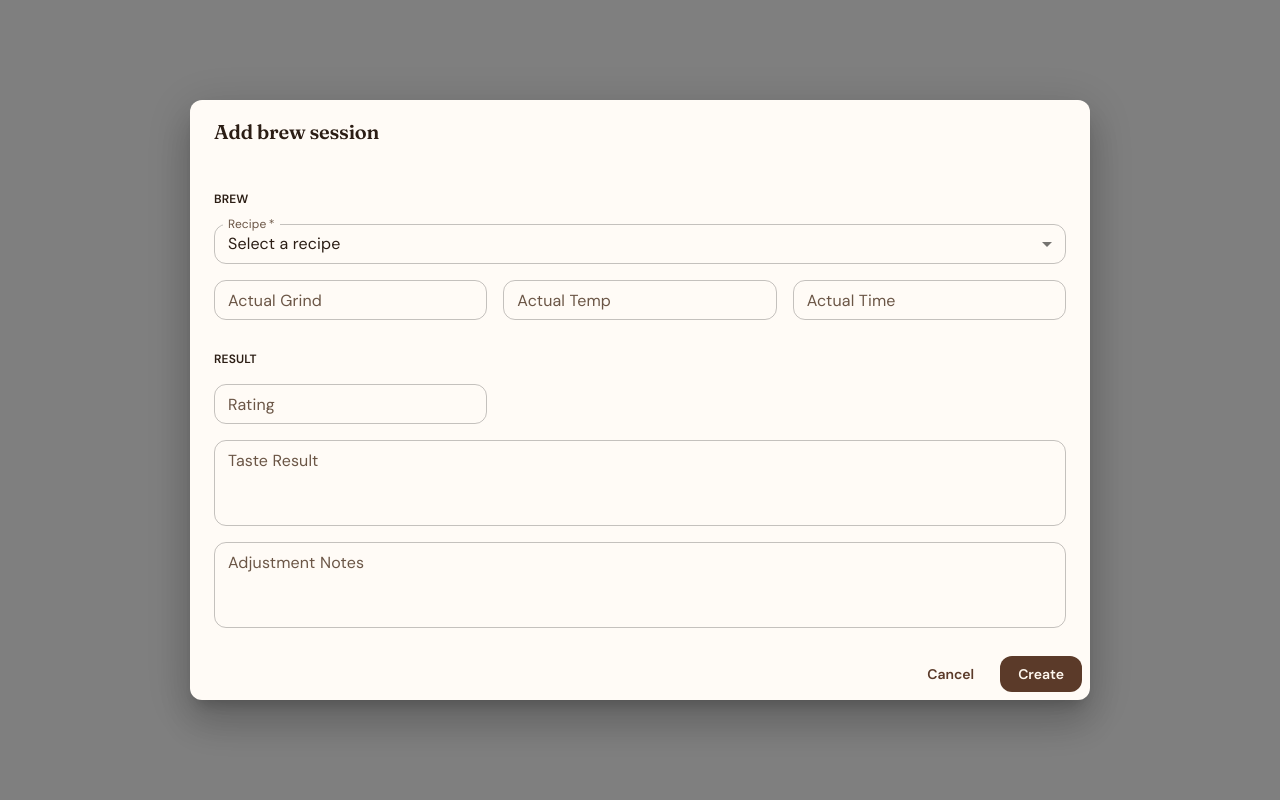
Test case: BrewSessionFormDialog › maps a server 400 validation error onto the field
Select "Mezcla AeroPress" in the dropdown labelled "Recipe *" at (640, 244), box [214,224,1066,264]
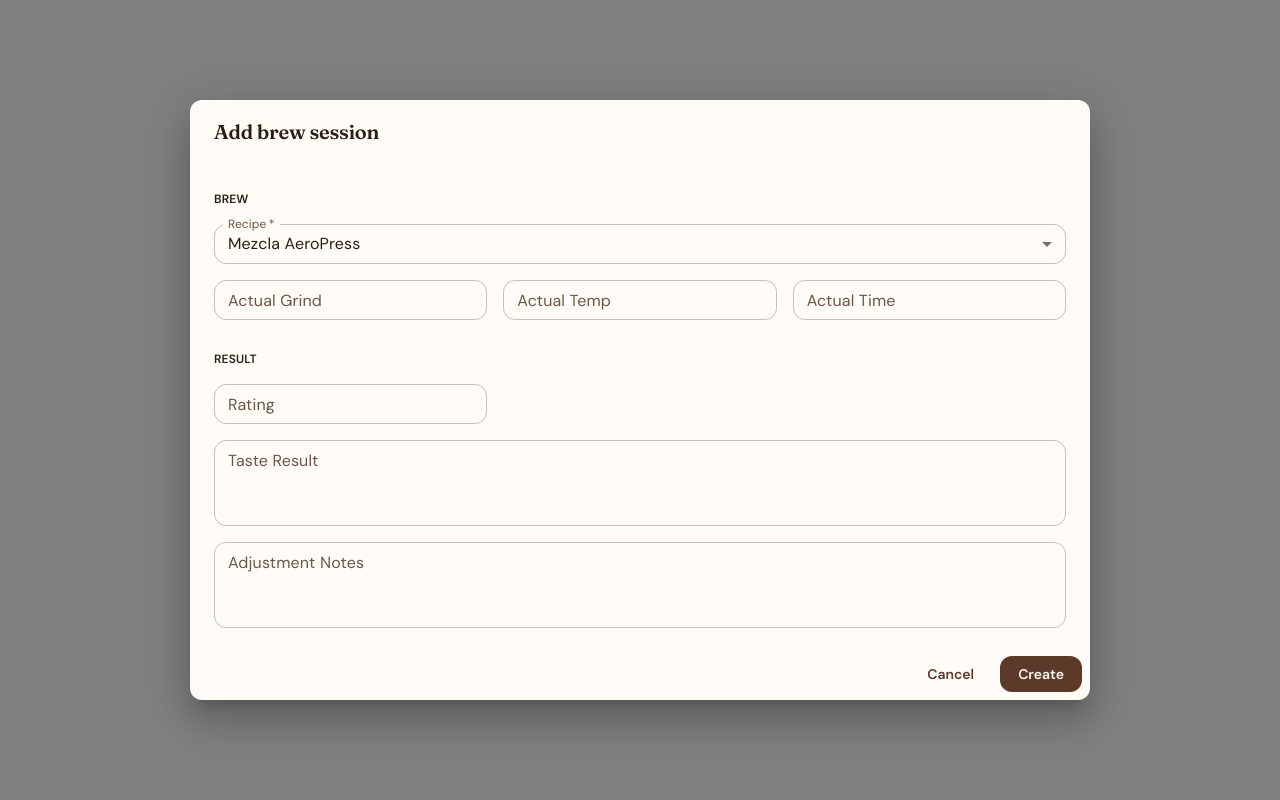
Click the button "Create" at (1041, 674), box [1000,656,1082,692]
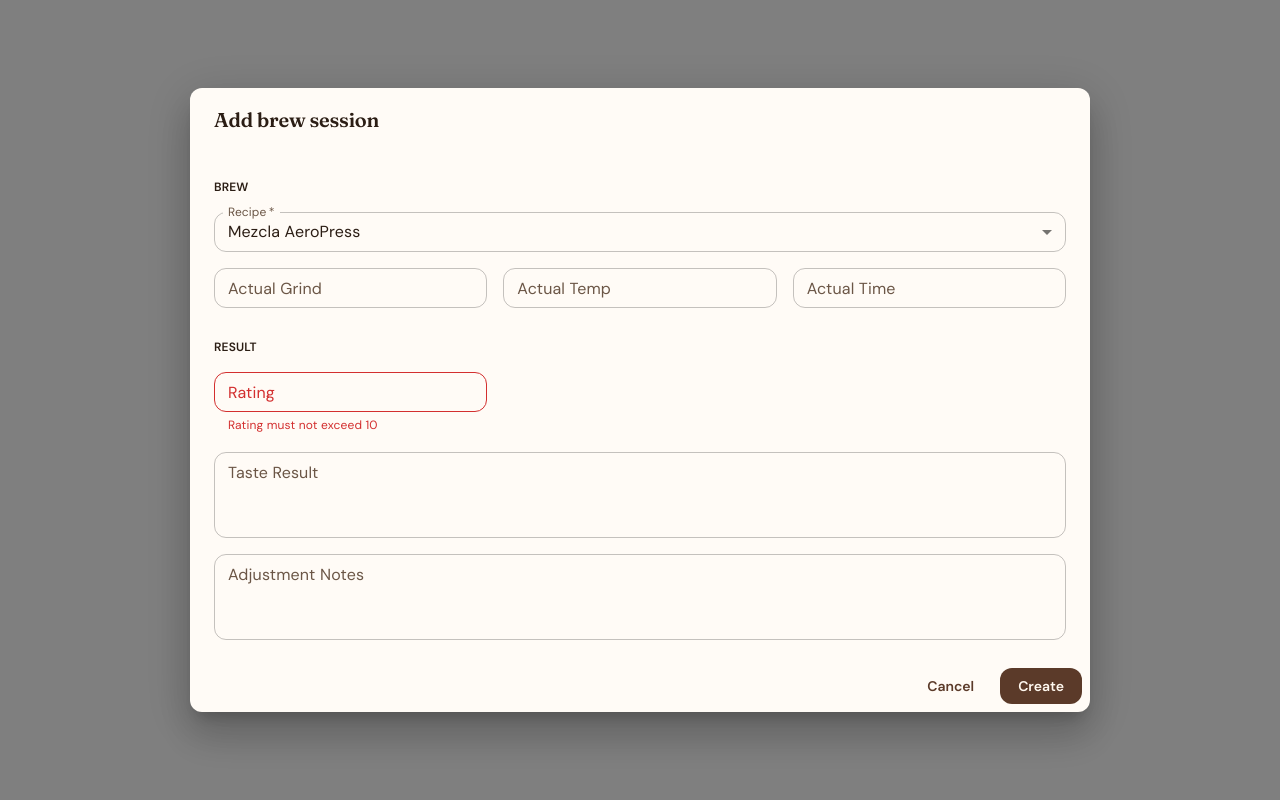
Check: the text "Rating must not exceed 10" is shown, box [228,417,378,433]
